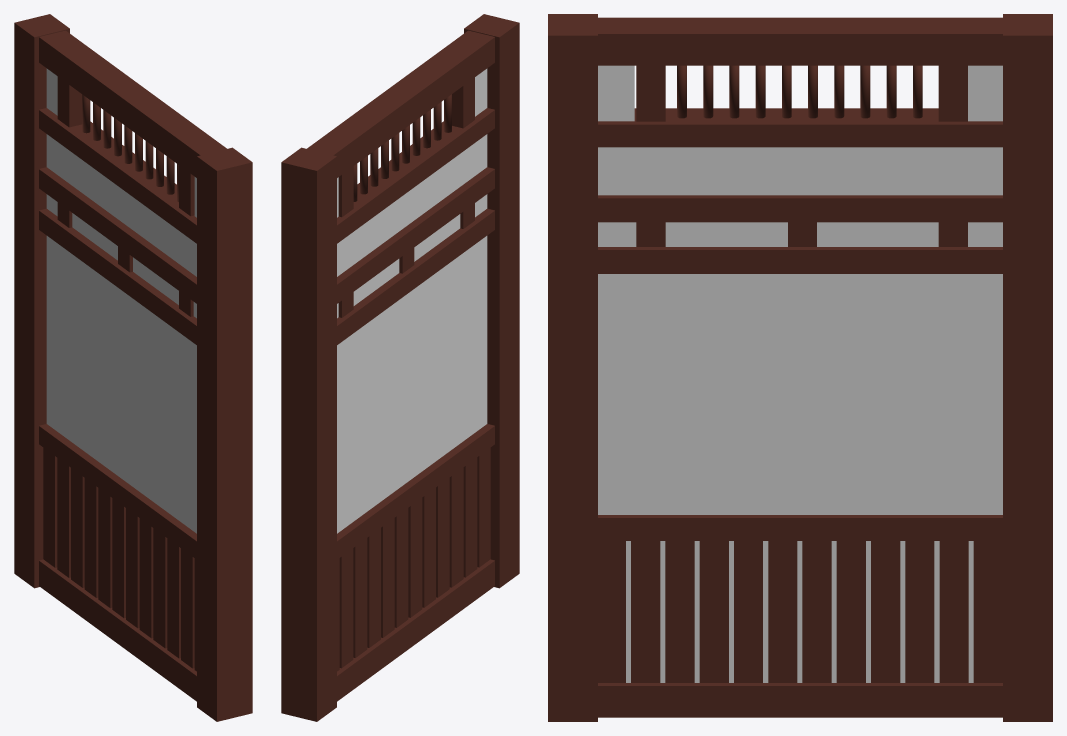
File: wall1.fbx
3 renders of one model, left to right at view 1: azimuth 30°, elevation 25°; view 2: azimuth 150°, elevation 25°; view 3: azimuth 270°, elevation 25°, orthographic. The views are drawn at different scales.
Parts seen in each view (by area): view 1: wall13; view 2: wall13; view 3: wall13.
Part boxes in pixels (x1,y1,x2,y2): wall13: [14, 14, 252, 721]; wall13: [281, 14, 519, 721]; wall13: [548, 14, 1052, 721].
Bounding box in the file's own units: 24.66 × 364 × 242.
